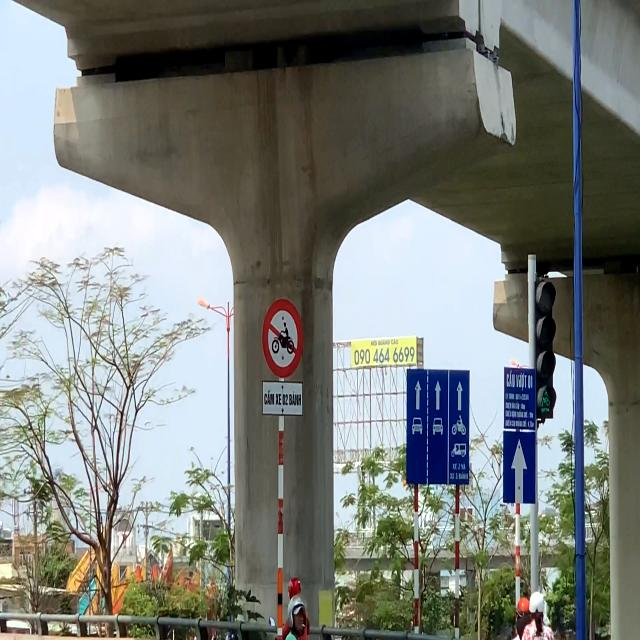P.104: (261, 297, 304, 379)
R.407a: (502, 429, 536, 505)
